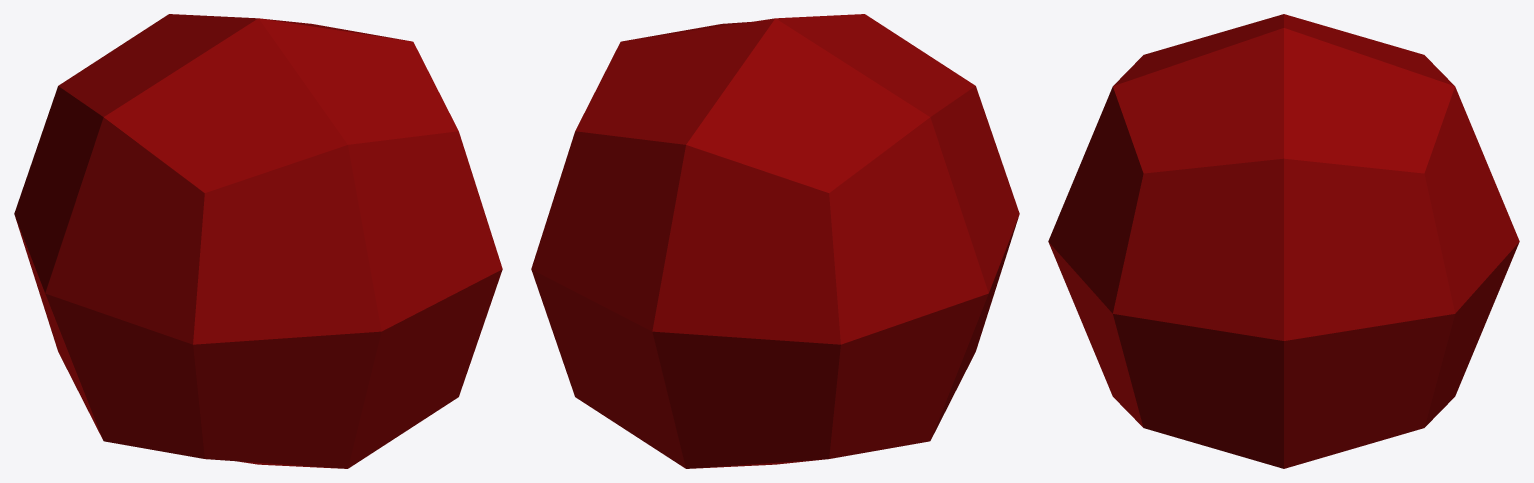
File: bullet.obj
3 renders of one model, left to right at view 1: azimuth 30°, elevation 25°; view 2: azimuth 150°, elevation 25°; view 3: azimuth 270°, elevation 25°, orthographic. The views are drawn at different scales.
Visible parts, largest first — view 1: Cube; view 2: Cube; view 3: Cube.
Boxes of the visible parts, bbox=[...] form: Cube: bbox=[14, 14, 502, 468]; Cube: bbox=[531, 14, 1019, 468]; Cube: bbox=[1048, 14, 1519, 468].
Size of the model in its own units: 0.4841 by 0.4841 by 0.4841.
Materials: 1 (1 with a texture image).
